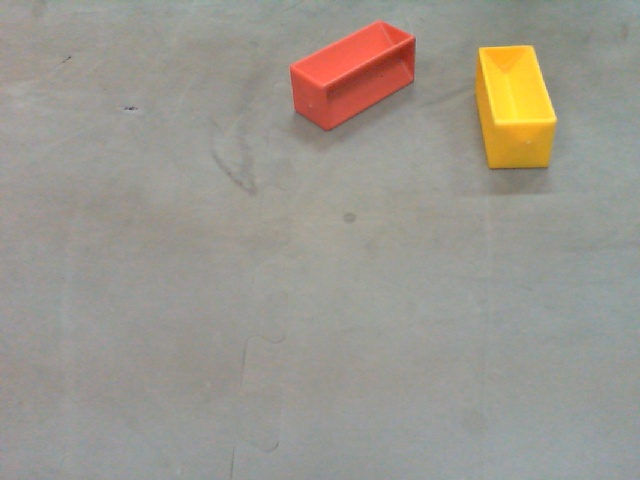RedSample: (288, 20, 416, 131)
YellowSample: (477, 45, 557, 172)
